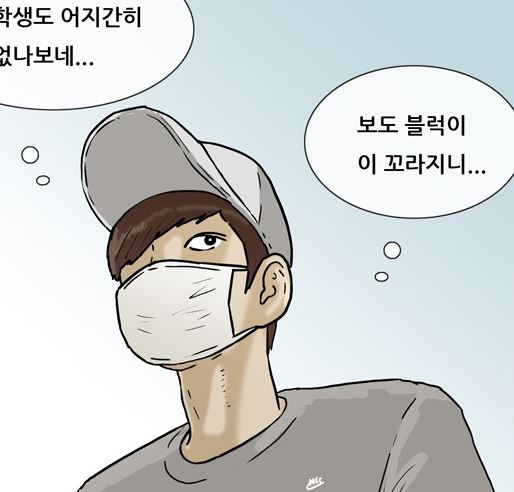hat: (80, 104, 298, 264)
